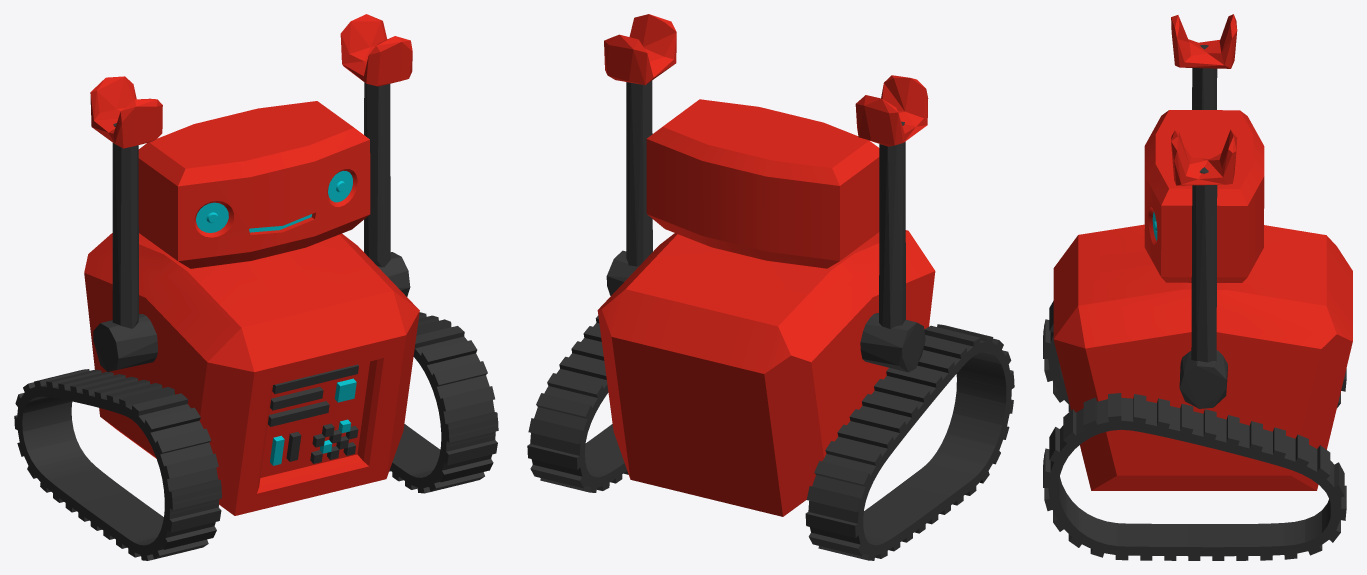
The model's file is Player_robot.fbx.
The picture shows the model from 3 angles, left to right: view 1: azimuth 30°, elevation 25°; view 2: azimuth 150°, elevation 25°; view 3: azimuth 270°, elevation 25°; orthographic projection. The views are drawn at different scales.
Visible parts, largest first — view 1: Cube.002, Cube, Cylinder.010, Cube.003, Cylinder.011; view 2: Cube.002, Cube, Cylinder.010, Cube.003, Cylinder.011; view 3: Cube.002, Cube, Cylinder.010, Cube.003, Cylinder.011.
Part boxes in pixels (x1,y1,x2,y2): Cube.002: (84,101,419,515); Cube: (14,312,498,560); Cylinder.010: (112,82,390,328); Cube.003: (90,14,412,148); Cylinder.011: (93,252,410,371); Cube.002: (597,99,935,516); Cube: (527,315,1014,560); Cylinder.010: (626,80,905,329); Cube.003: (604,14,928,146); Cylinder.011: (606,250,925,372); Cube.002: (1053,110,1352,490); Cube: (1043,301,1346,560); Cylinder.010: (1191,45,1217,362); Cube.003: (1171,14,1237,185); Cylinder.011: (1179,350,1227,408).
Bounding box in the file's own units: 154 × 193 × 132.
